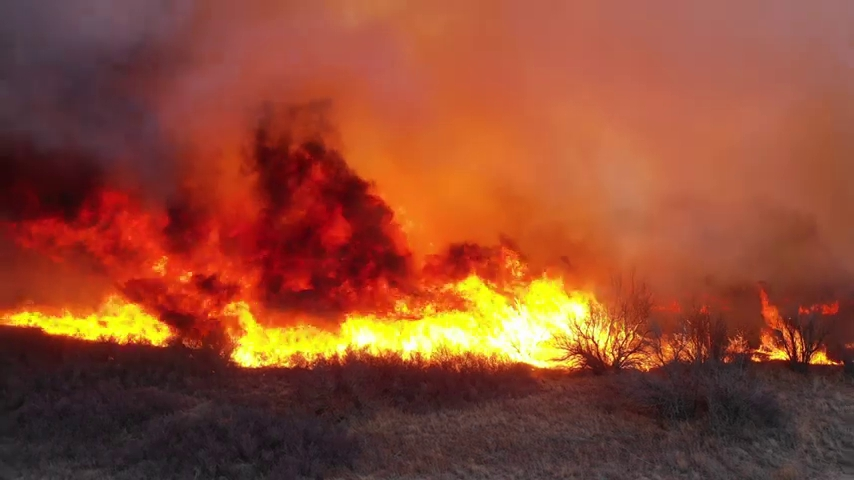forest_fire: (1, 122, 655, 368), (728, 288, 805, 359), (643, 302, 679, 320), (805, 347, 836, 363), (657, 332, 677, 356), (799, 303, 837, 315), (697, 303, 708, 315), (658, 357, 659, 359), (7, 207, 8, 209)
